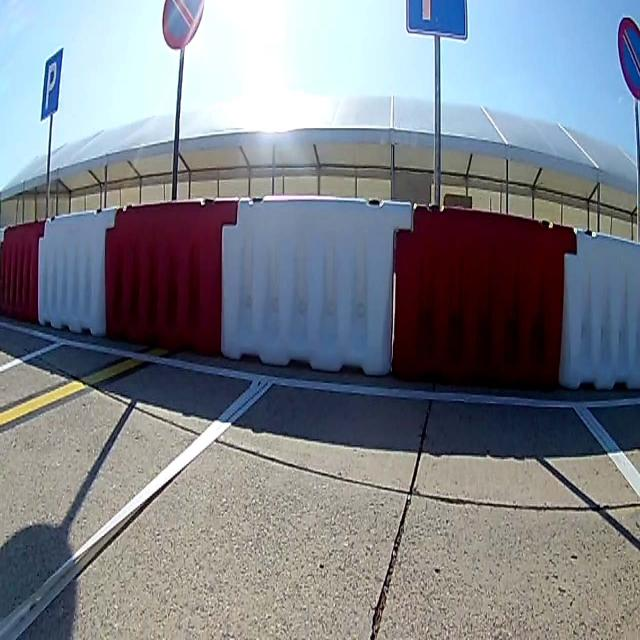park: (41, 50, 60, 116)
